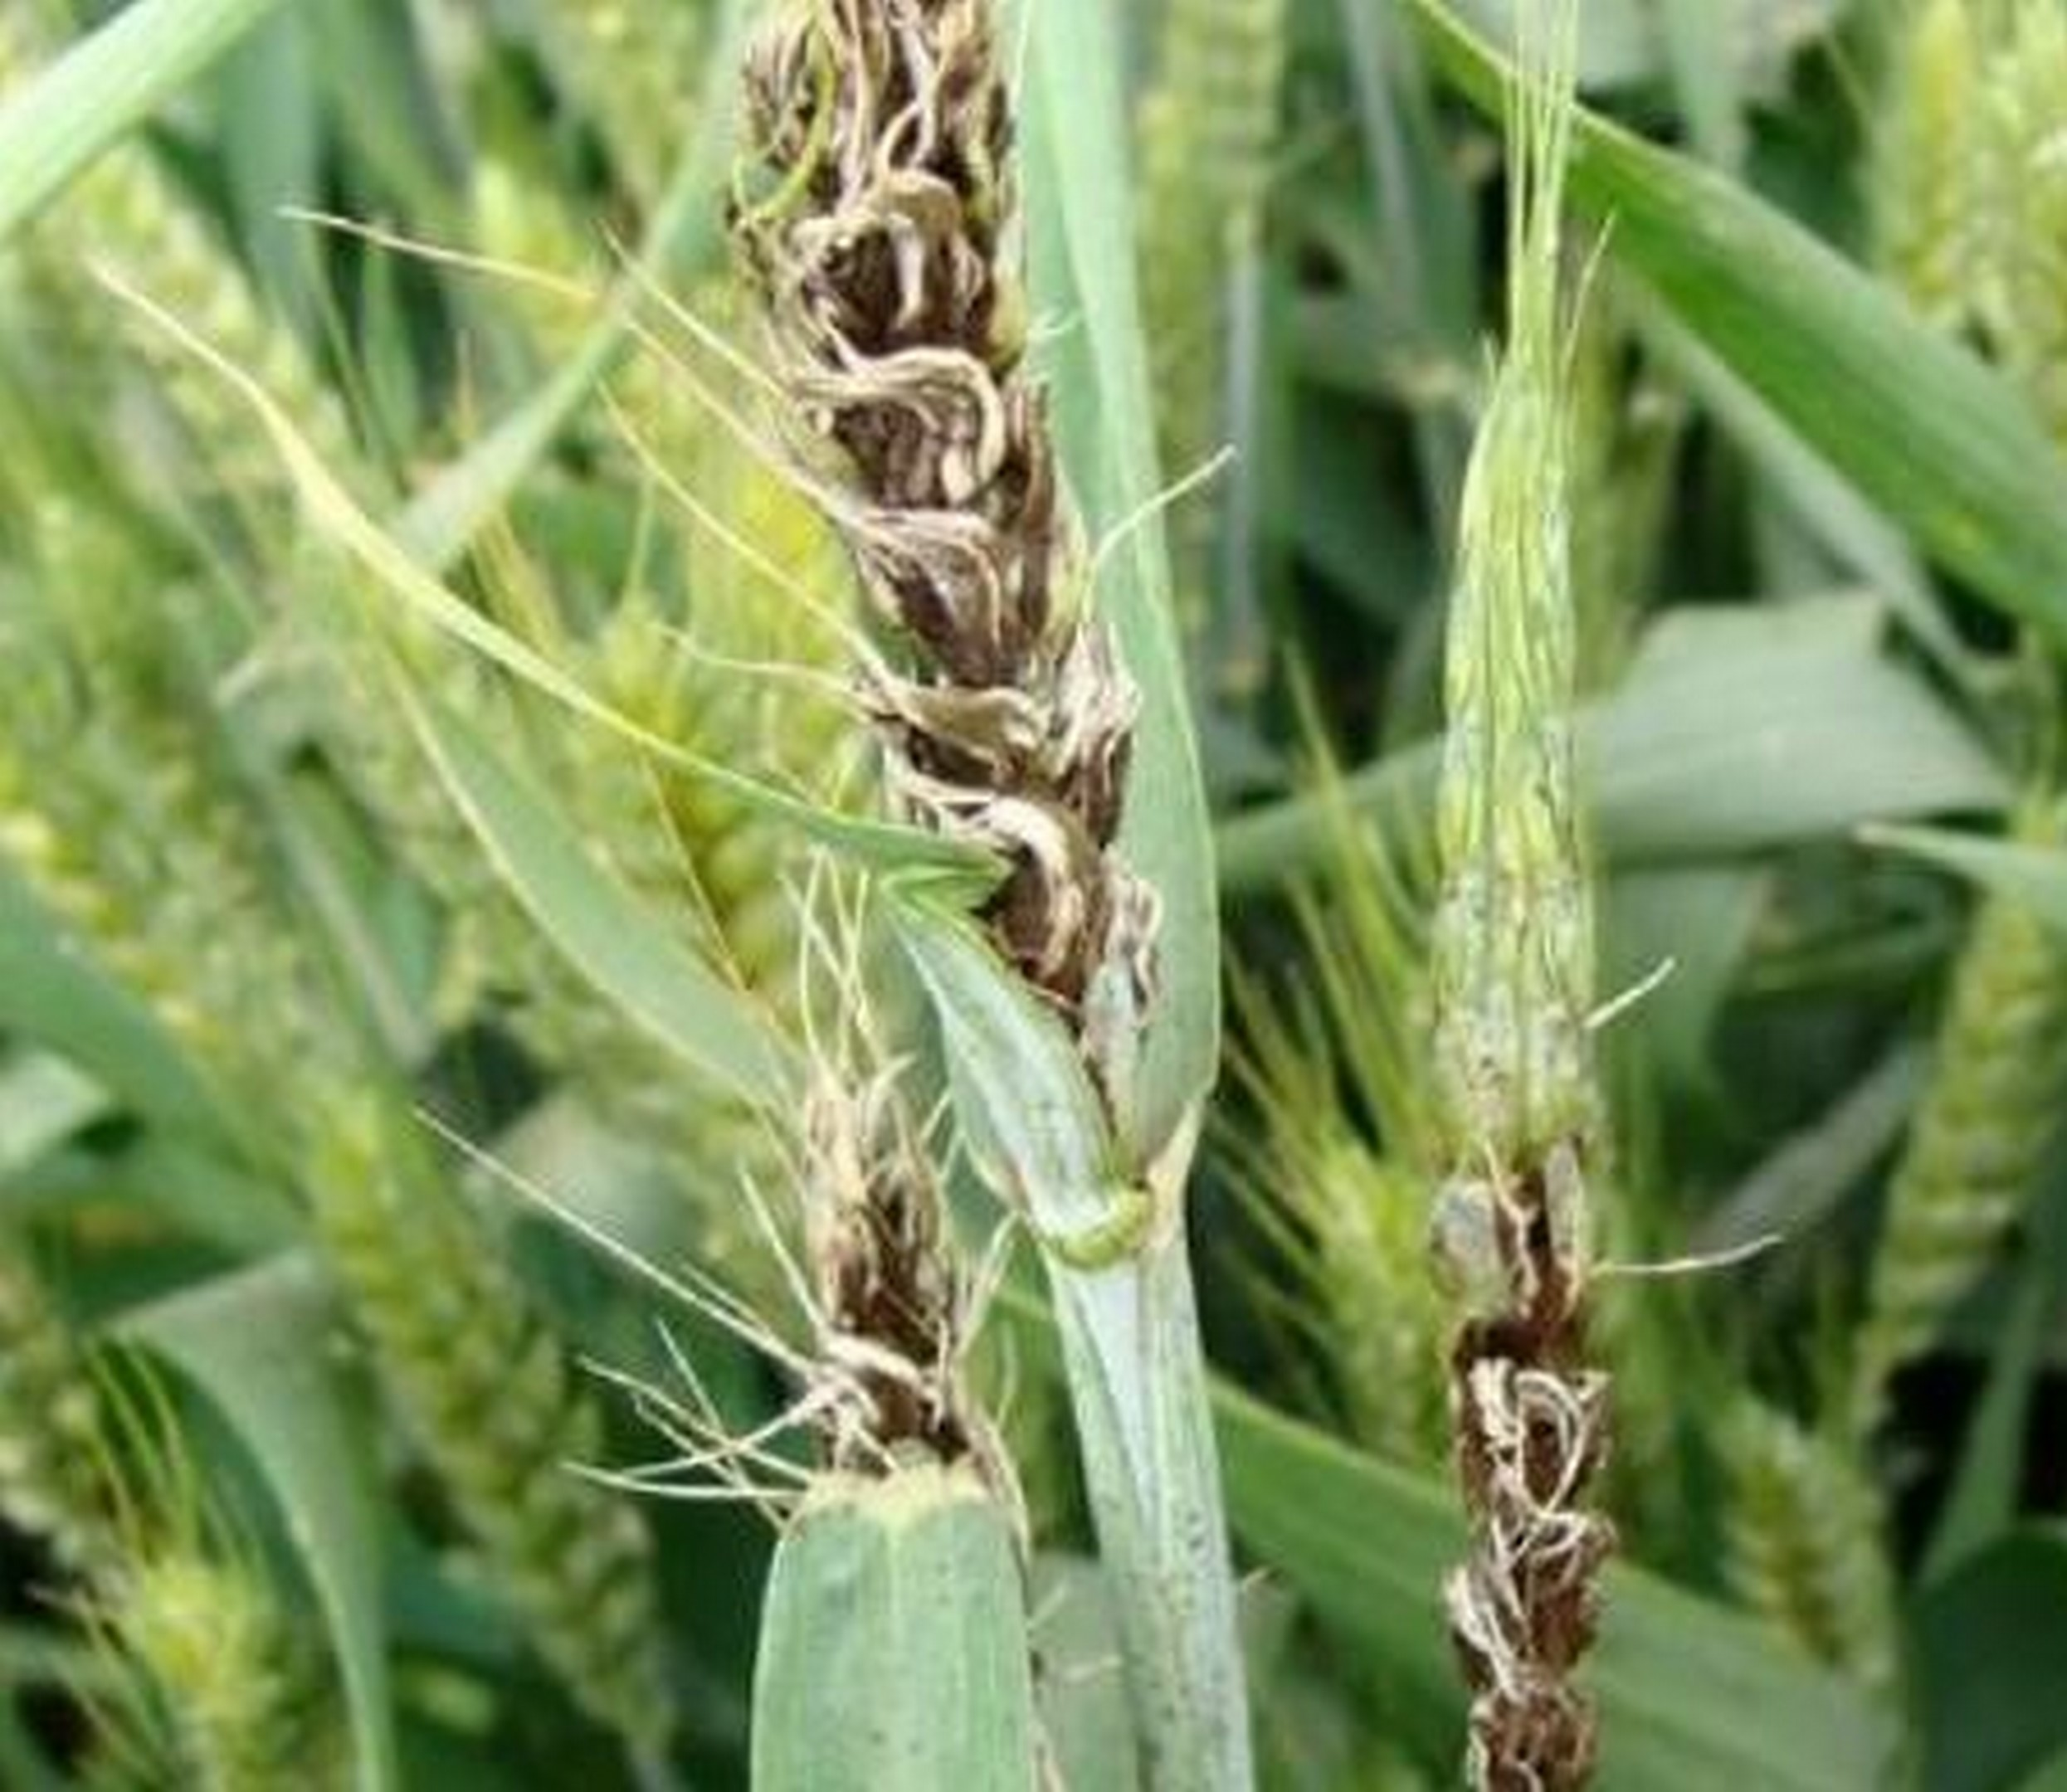Wheat Loose Smut: (728, 49, 1174, 926)
